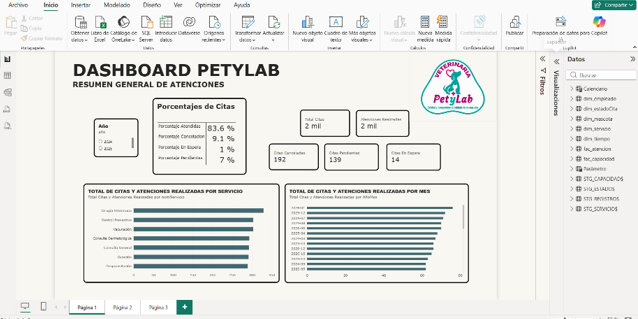

What the dashboard file says about the page in this screenshot:
{"tool":"powerbi","page":{"name":"Página 1","canvas":[1920,1080],"ordinal":0},"visuals":[{"type":"textbox","box":[99.5,99.5,879.5,123.1],"z":0},{"type":"textbox","box":[77.8,38,1044.2,184.6],"z":1000},{"type":"cardVisual","fields":{"Data":["dim_estadoCita.Total Citas"]},"box":[1065.5,254.3,217.2,117.6],"z":2000},{"type":"cardVisual","fields":{"Data":["fac_atencion.Atenciones Realizadas"]},"box":[1308.5,256.1,231.6,115.8],"z":3000},{"type":"cardVisual","fields":{"Data":["dim_estadoCita.Citas Pendientes"]},"box":[1170.9,401.9,237.1,117.6],"z":4000},{"type":"cardVisual","fields":{"Data":["dim_estadoCita.Citas Canceladas"]},"box":[930.5,401.9,217.2,115.8],"z":5000},{"type":"barChart","title":"TOTAL DE CITAS Y ATENCIONES REALIZADAS POR SERVICIO","fields":{"Category":["dim_servicio.nomServicio"],"Y":["dim_estadoCita.Total Citas"]},"box":[124.7,576.1,852.4,430.7],"z":8000},{"type":"barChart","title":" TOTAL DE CITAS Y ATENCIONES REALIZADAS POR MES","fields":{"Category":["Calendario.AñoMes"],"Y":["dim_estadoCita.Total Citas"]},"box":[999.8,576.1,799.8,431.6],"z":9000},{"type":"listSlicer","title":"Año","fields":{"Values":["dim_tiempo.año"]},"box":[170.3,293,193.6,168.3],"z":10000},{"type":"image","box":[1540,0,380,305.8],"z":11000},{"type":"cardVisual","fields":{"Data":["dim_estadoCita.Citas En Espera"]},"box":[1440.1,401.9,237.1,117.6],"z":12000},{"type":"pivotTable","title":"Porcentajes de Citas","fields":{"Values":["dim_estadoCita.Porcentaje Atendidas","dim_estadoCita.Porcentaje Cancelacion","dim_estadoCita.Porcentaje En Espera","dim_estadoCita.Porcentaje Pendientes"]},"box":[425.7,203.9,407.8,332.6],"z":12001}]}

Visuals, with their boxes on the page's 1920x1080 design canvas (x1, y1, x2, y2). These are canvas units, not pixel positions in the 638x319 screenshot, which may show the page scaled, cropped or inside an application window:
textbox: 100:100:979:223
textbox: 78:38:1122:223
cardVisual - dim_estadoCita.Total Citas: 1066:254:1283:372
cardVisual - fac_atencion.Atenciones Realizadas: 1308:256:1540:372
cardVisual - dim_estadoCita.Citas Pendientes: 1171:402:1408:520
cardVisual - dim_estadoCita.Citas Canceladas: 930:402:1148:518
"TOTAL DE CITAS Y ATENCIONES REALIZADAS POR SERVICIO" barChart: 125:576:977:1007
" TOTAL DE CITAS Y ATENCIONES REALIZADAS POR MES" barChart: 1000:576:1800:1008
"Año" listSlicer: 170:293:364:461
image: 1540:0:1920:306
cardVisual - dim_estadoCita.Citas En Espera: 1440:402:1677:520
"Porcentajes de Citas" pivotTable: 426:204:834:536
